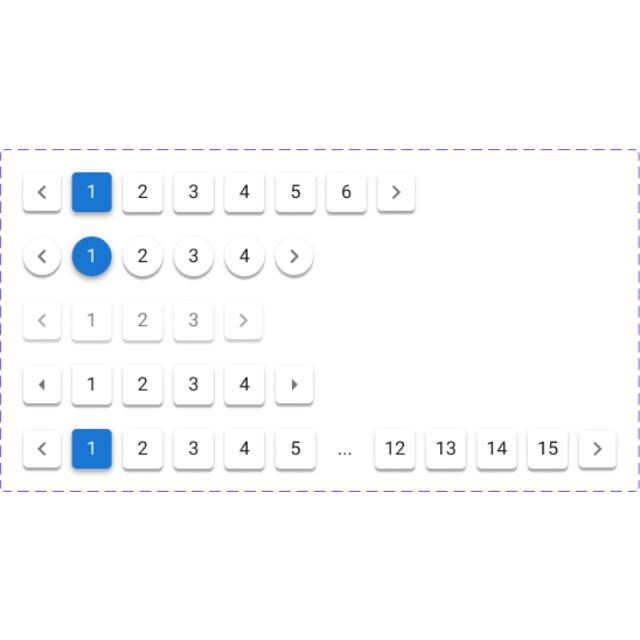VPagination: (22, 427, 618, 471), (23, 171, 417, 213), (21, 235, 316, 278), (22, 365, 314, 405), (21, 298, 265, 344)
